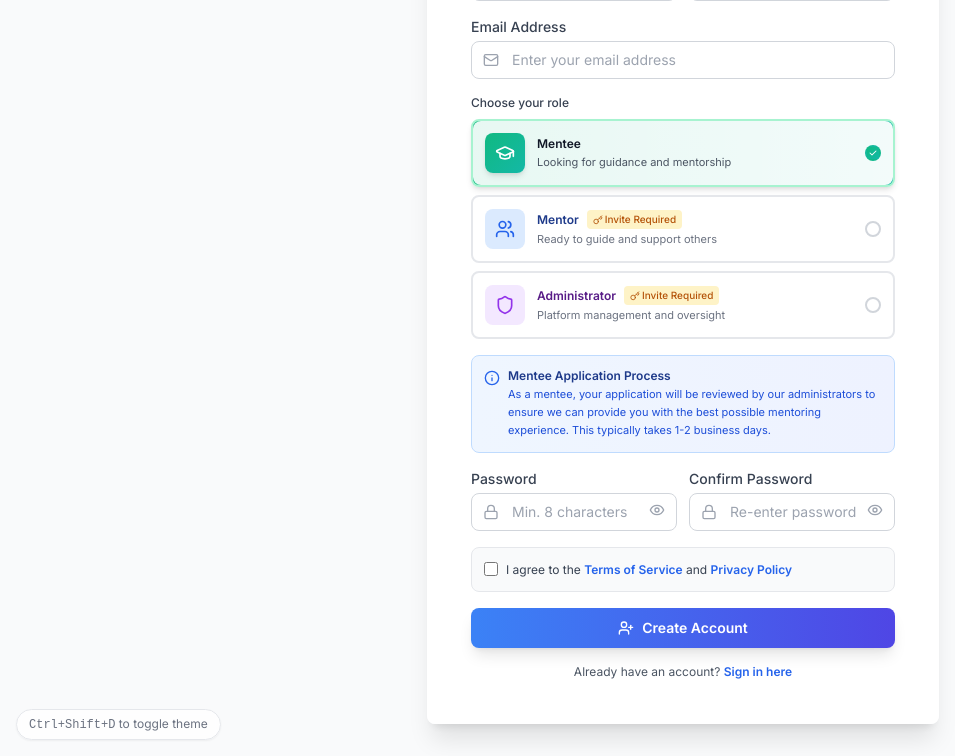
Scenario: Authentication Flow › SignupForm Component › validates password confirmation match
(page scrolled)
Step 1. Type "password123" into the password field with test id "signup-password-input" → (574,512), box [471,493,677,531]
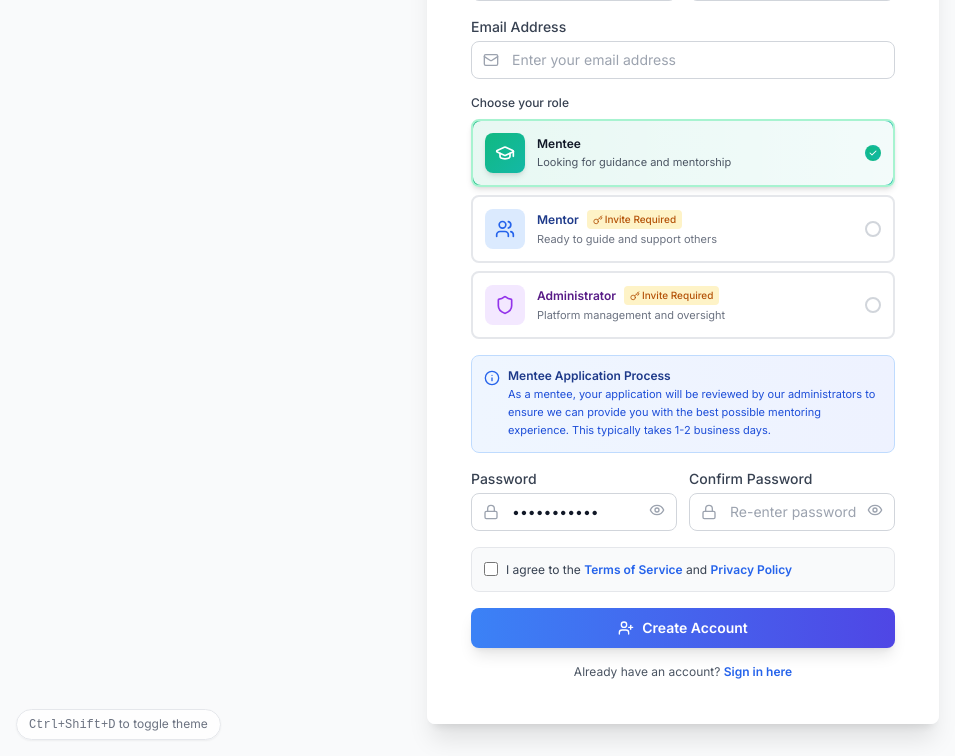
Step 2. Type "differentpassword" into the password field with test id "signup-confirm-password-input" → (792,512), box [689,493,895,531]
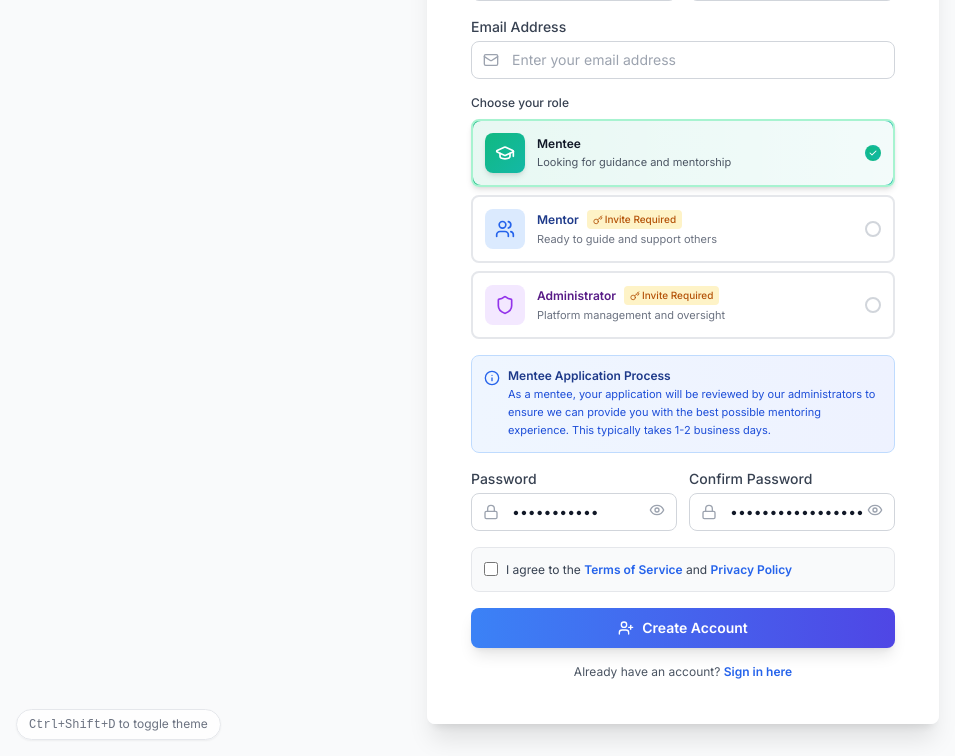
Step 3. Click the button "Create Account" → (683,628), box [471,608,895,648]
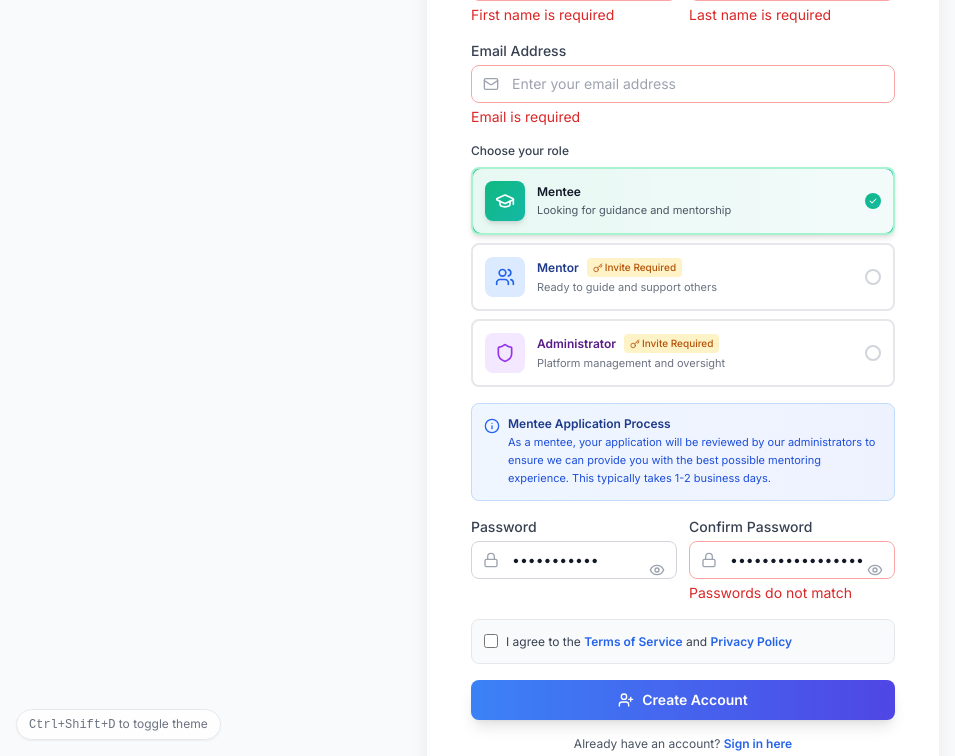
expect the text "Passwords do not match" is shown: met, box [689,584,852,601]
